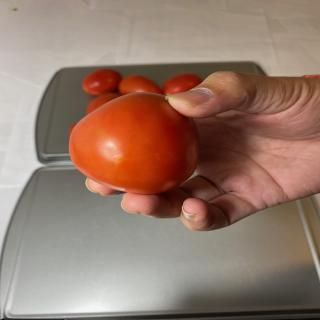Tomato: (69, 92, 200, 195), (82, 68, 121, 95), (118, 74, 162, 96), (162, 73, 202, 96), (86, 92, 120, 116)
